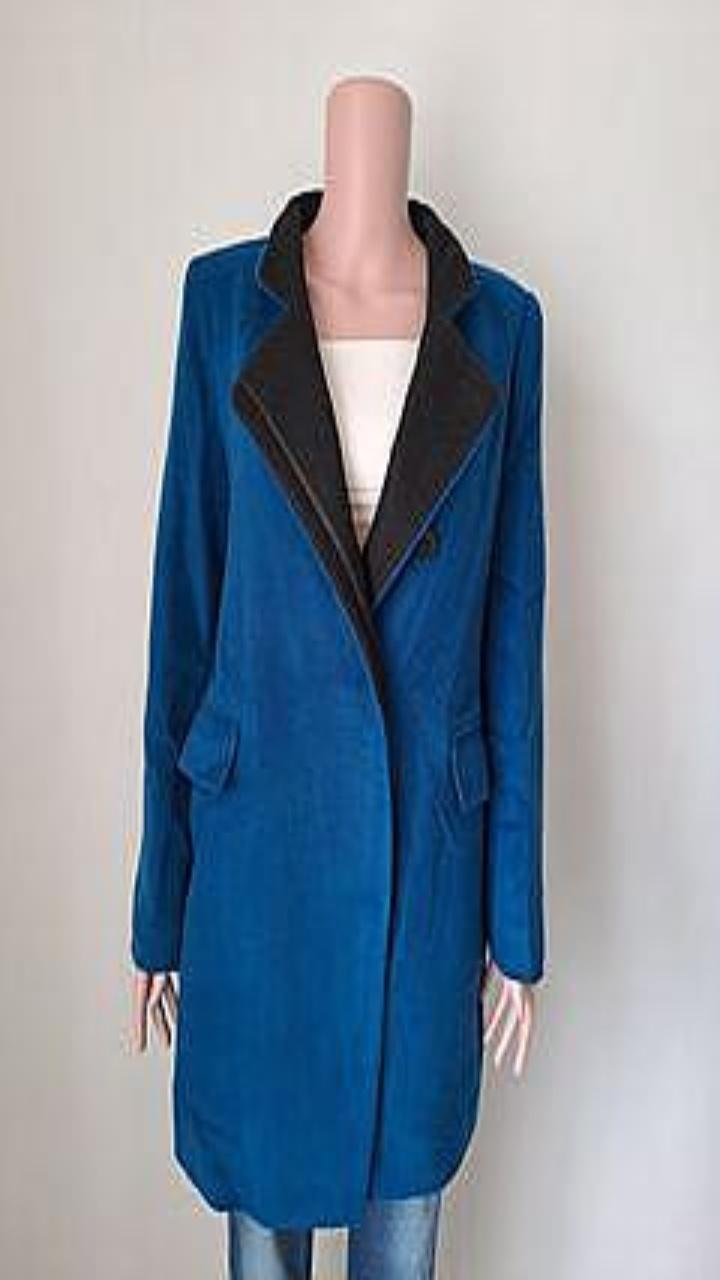Coat: (131, 188, 544, 1226)
Jeans: (347, 1191, 440, 1279)
T-Shirt: (318, 336, 419, 543)
